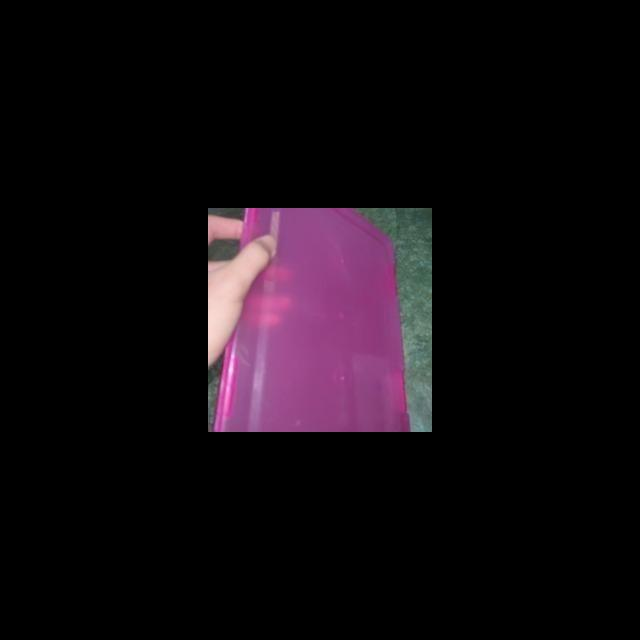plastic: (208, 208, 412, 432)
